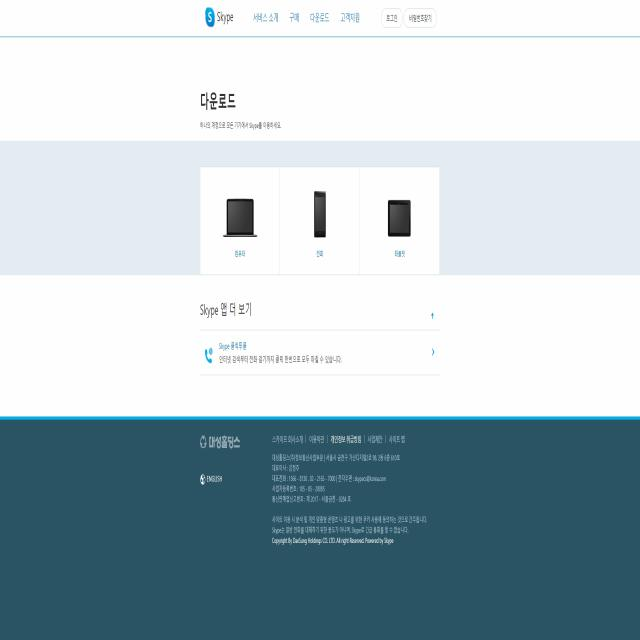menu-bar: (379, 8, 438, 29)
tab-bar: (204, 6, 363, 28)
